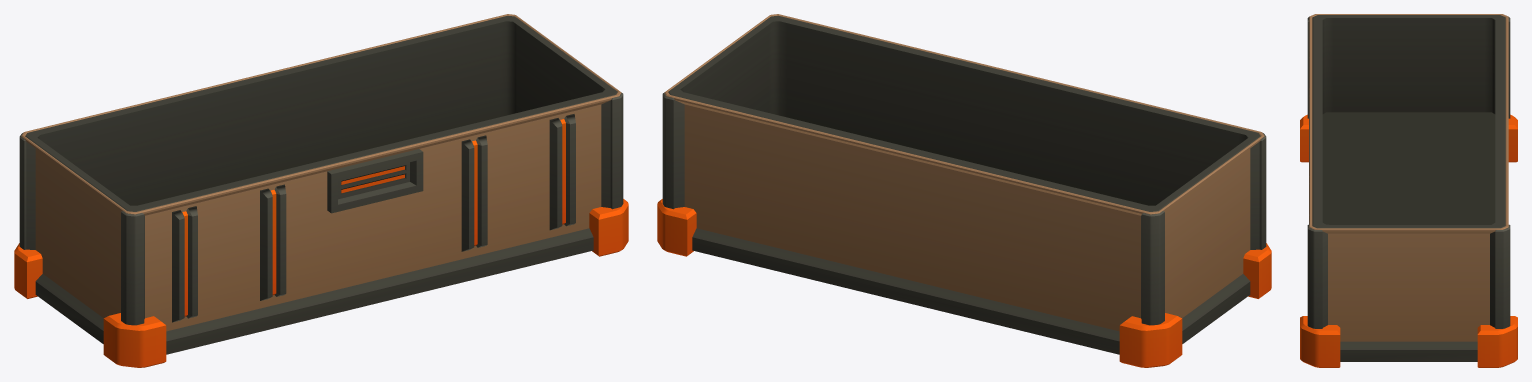
File: Container_02.fbx
The picture shows the model from 3 angles, left to right: view 1: azimuth 30°, elevation 25°; view 2: azimuth 150°, elevation 25°; view 3: azimuth 270°, elevation 25°; orthographic projection. The views are drawn at different scales.
Visible parts, largest first — view 1: Container_02; view 2: Container_02; view 3: Container_02.
Boxes of the visible parts, box(x1,y1,x2,y2) form: Container_02: box(14, 14, 628, 367); Container_02: box(657, 14, 1271, 367); Container_02: box(1300, 14, 1517, 367).
Bounding box in the file's own units: 149 × 42.21 × 61.35.
